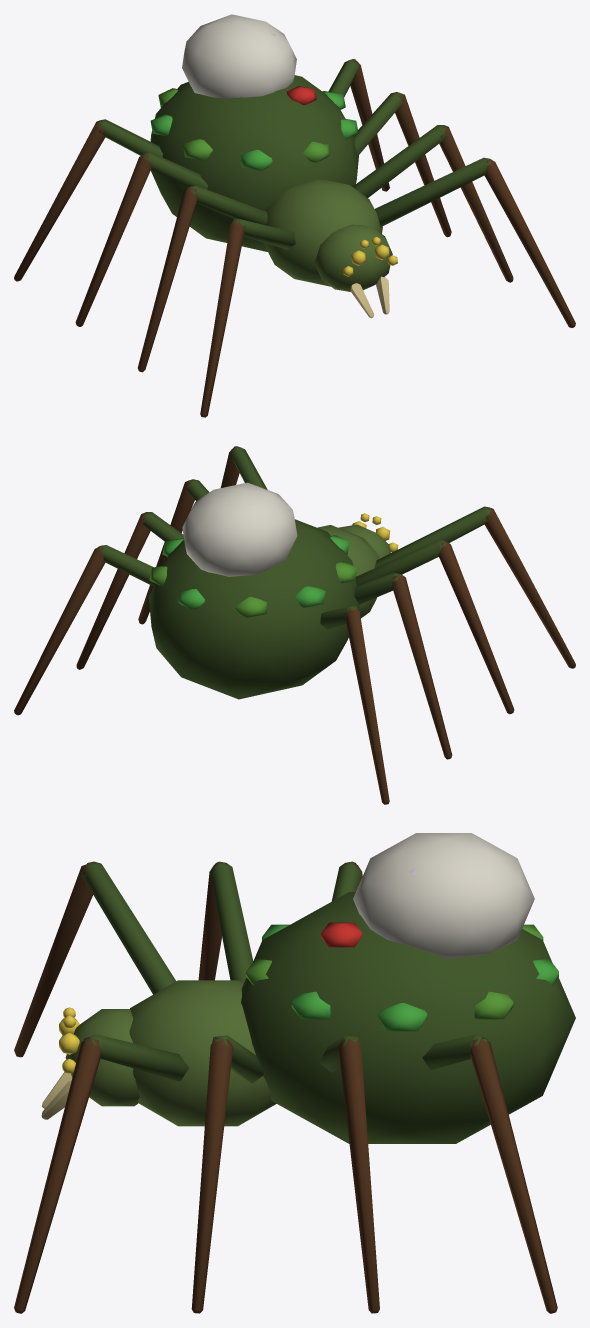
Rendered from e_wald_spinnenmutter.glb.
3 renders of one model, top to bottom at view 1: azimuth 30°, elevation 25°; view 2: azimuth 150°, elevation 25°; view 3: azimuth 270°, elevation 25°, orthographic. The views are drawn at different scales.
Parts seen in each view (by area): view 1: body; view 2: body; view 3: body.
Part boxes in pixels (x1=…): body: x1=14, y1=14, x2=575, y2=417; body: x1=14, y1=446, x2=575, y2=804; body: x1=14, y1=833, x2=575, y2=1313.
Bounding box in the file's own units: 2.55 × 1.57 × 2.31.
